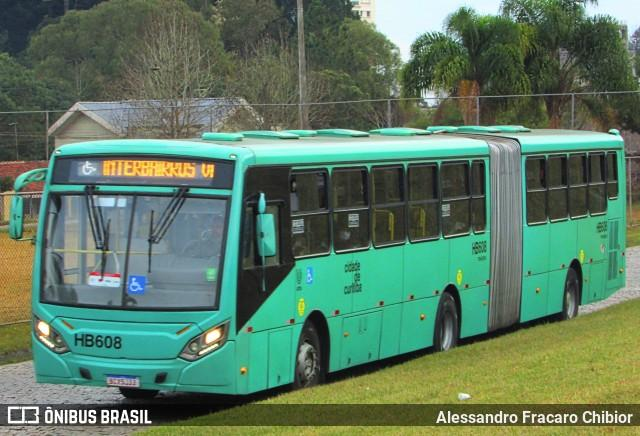INTERBAIRROS VI: (99, 155, 217, 184)
